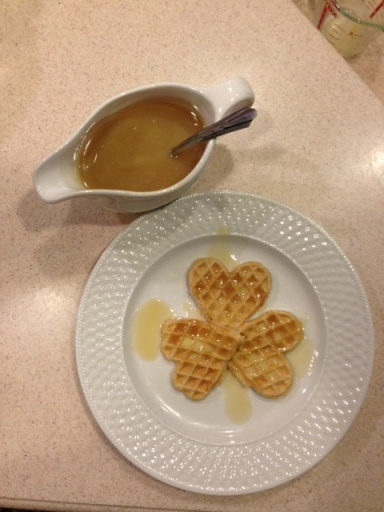background: (88, 114, 182, 322), (47, 76, 124, 155)
